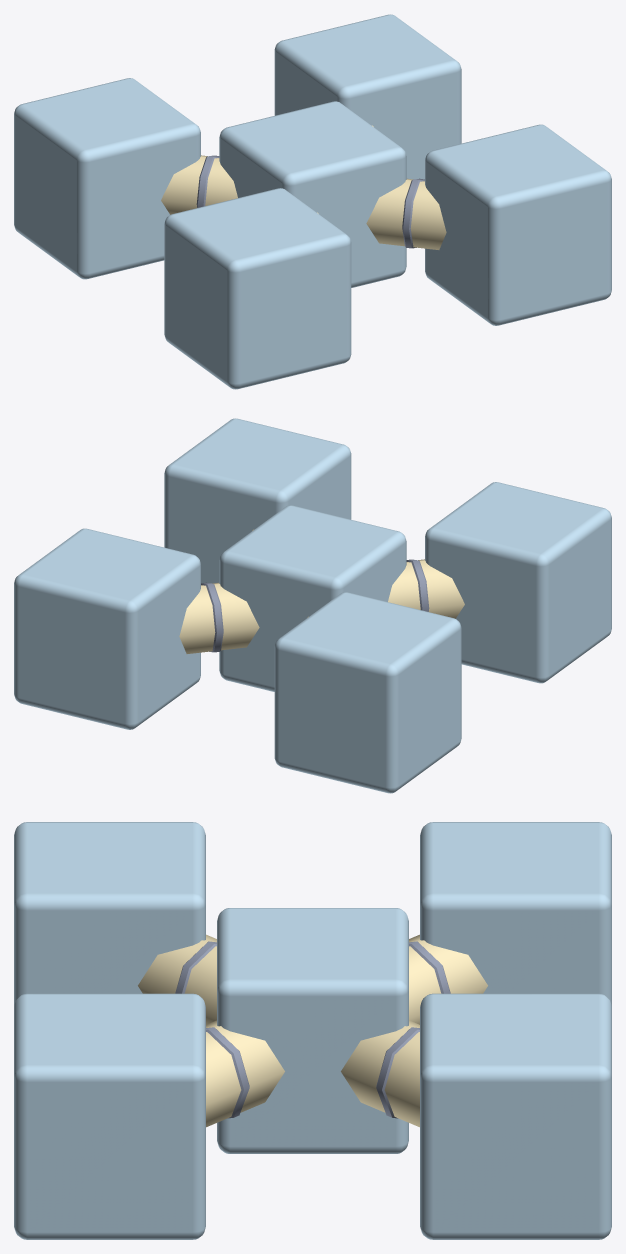
Rendered from R4C_STRUT_CROSS.glb.
The picture shows the model from 3 angles, top to bottom: view 1: azimuth 30°, elevation 25°; view 2: azimuth 150°, elevation 25°; view 3: azimuth 270°, elevation 25°; orthographic projection. The views are drawn at different scales.
Parts seen in each view (by area): view 1: R4C_STRUT_CROSS; view 2: R4C_STRUT_CROSS; view 3: R4C_STRUT_CROSS.
Part boxes in pixels (<box>): R4C_STRUT_CROSS: <box>14,14,611,389</box>; R4C_STRUT_CROSS: <box>14,418,611,793</box>; R4C_STRUT_CROSS: <box>14,822,611,1239</box>.
Size of the model in its own units: 1.62 by 0.52 by 1.62.
